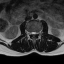CCS_normal: (32, 29, 34, 38)
LFS_normal: (36, 30, 38, 35)
LLS_normal: (34, 29, 36, 36)
RFS_normal: (29, 30, 31, 36)
RLS_normal: (31, 30, 32, 36)
